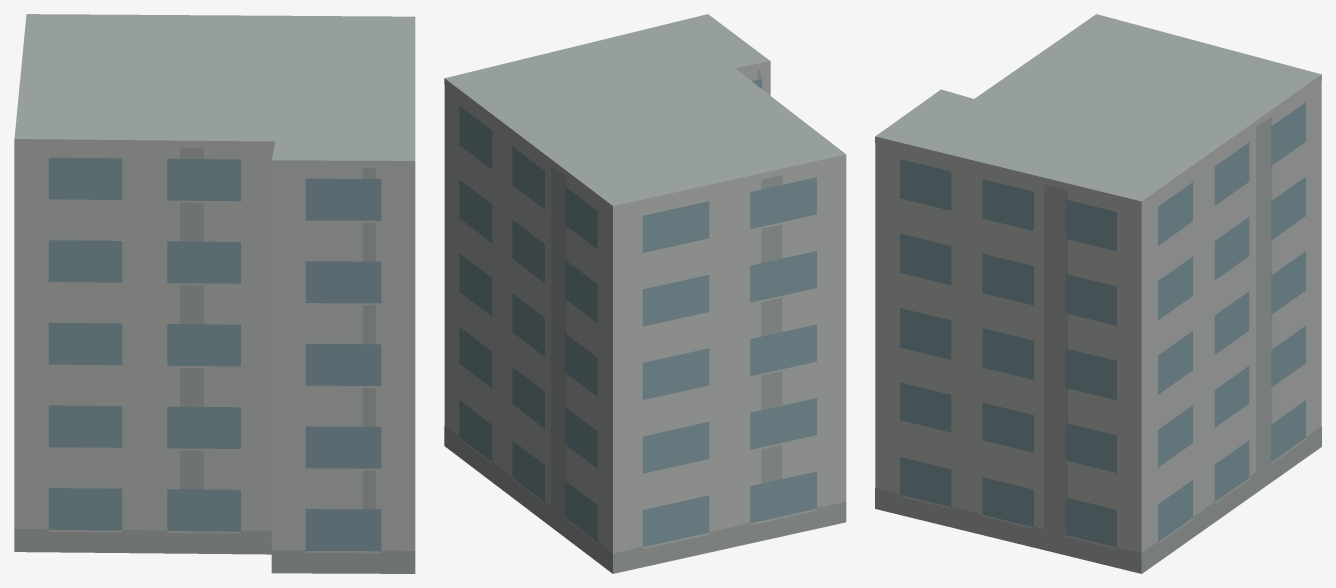
The model's file is survey-upis-32931542.glb.
3 renders of one model, left to right at view 1: azimuth 30°, elevation 25°; view 2: azimuth 150°, elevation 25°; view 3: azimuth 270°, elevation 25°, orthographic. The views are drawn at different scales.
Visible parts, largest first — view 1: survey-upis-32931542.tmp; view 2: survey-upis-32931542.tmp; view 3: survey-upis-32931542.tmp.
Boxes of the visible parts, x1,y1,x2,y2 form: survey-upis-32931542.tmp: [14, 14, 415, 573]; survey-upis-32931542.tmp: [444, 14, 846, 573]; survey-upis-32931542.tmp: [875, 14, 1321, 573].
Size of the model in its own units: 14.8 by 13.7 by 14.9.
